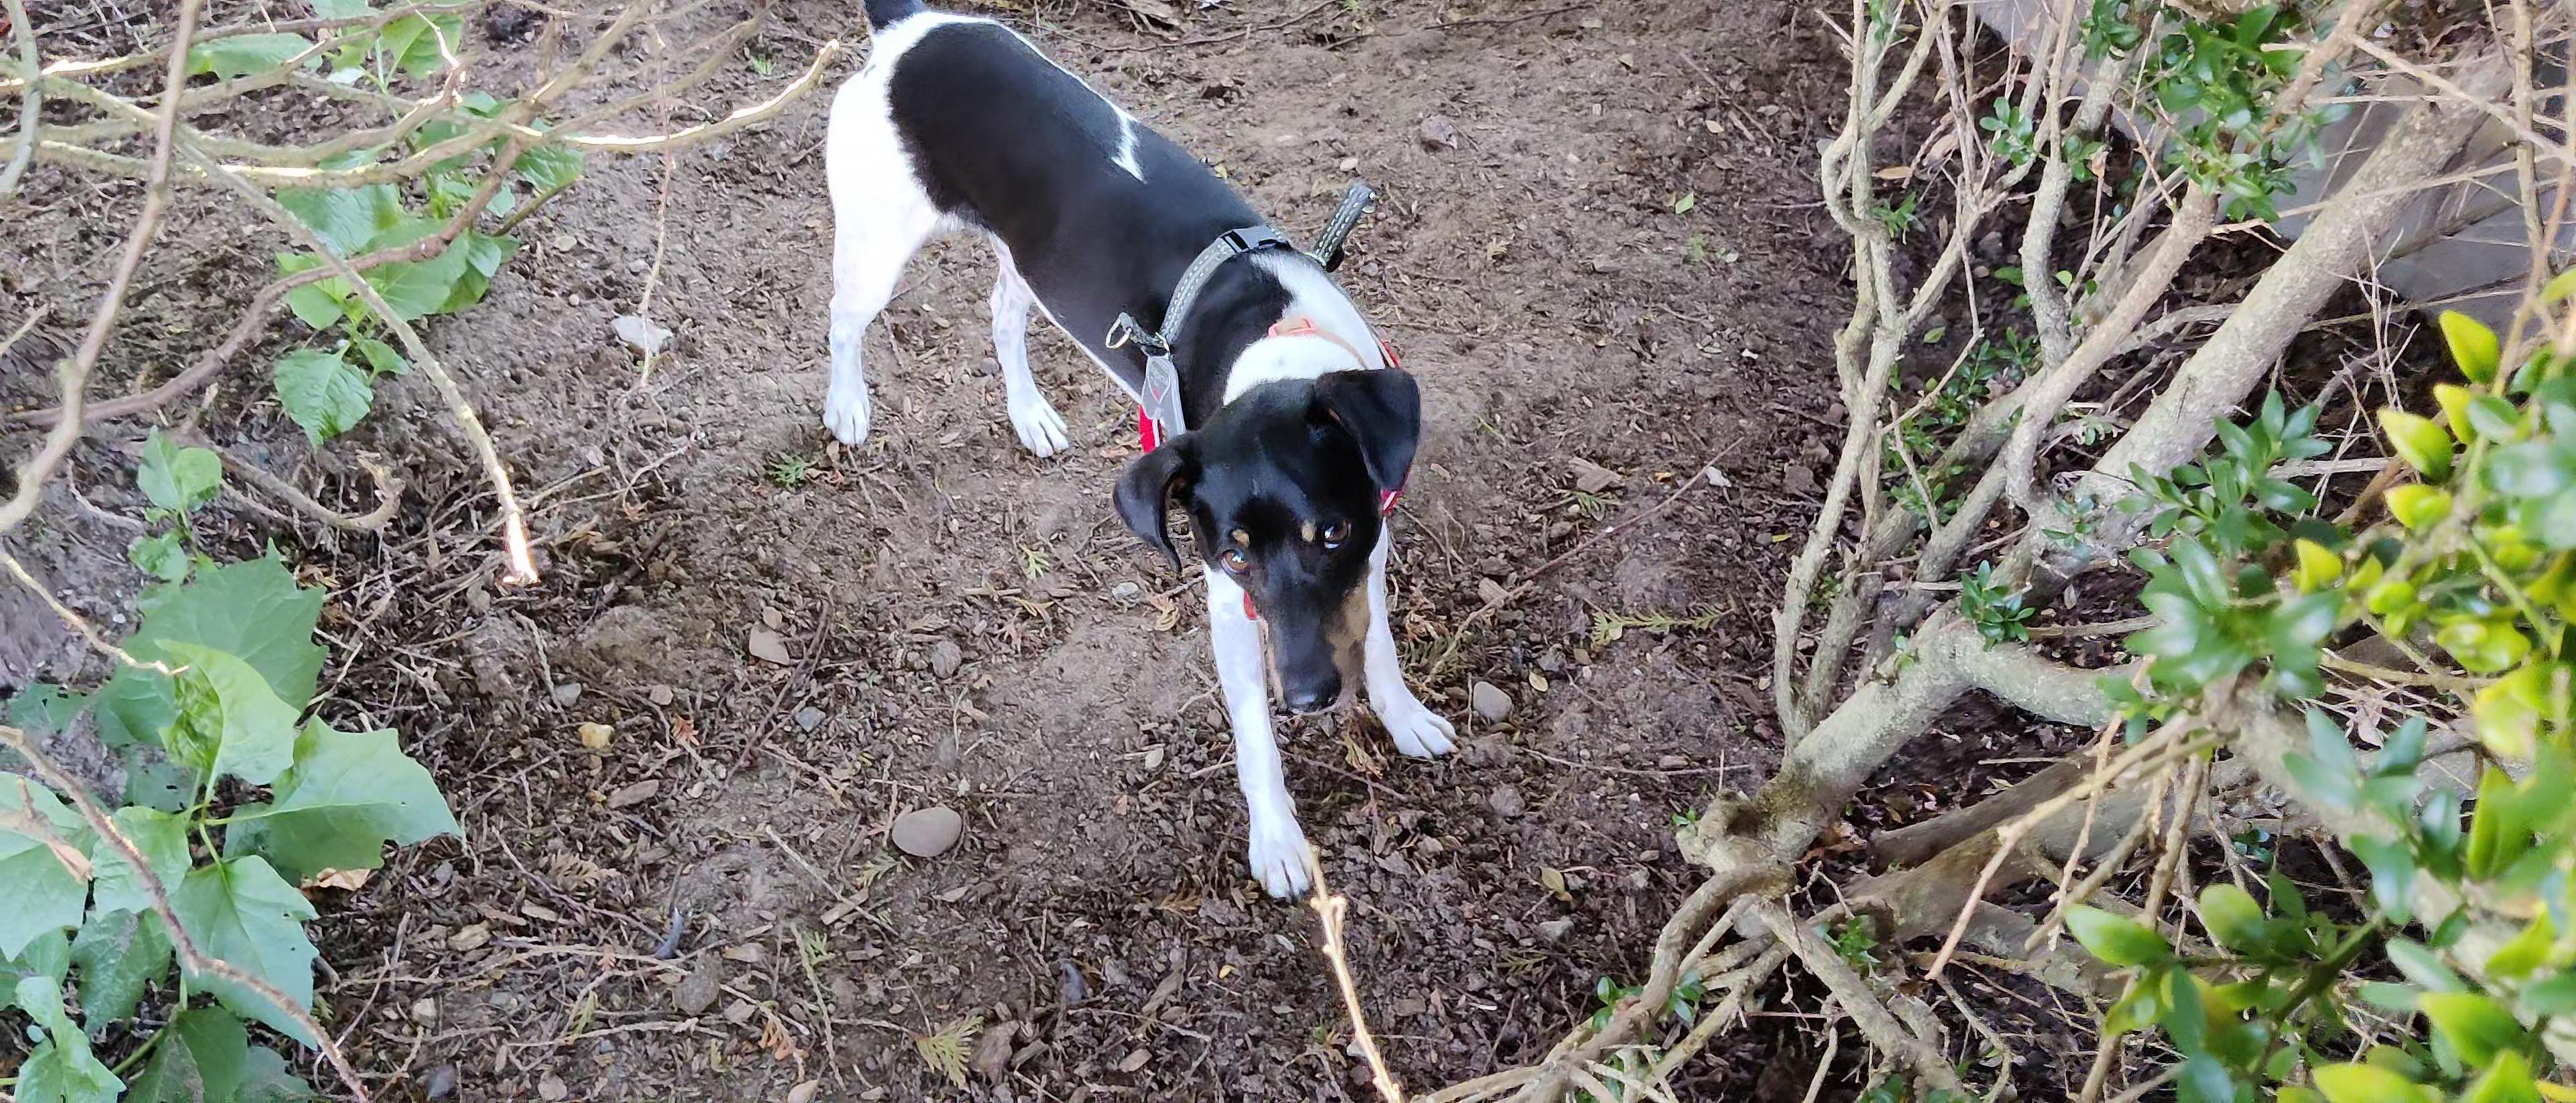Dog: (785, 0, 1479, 912)
